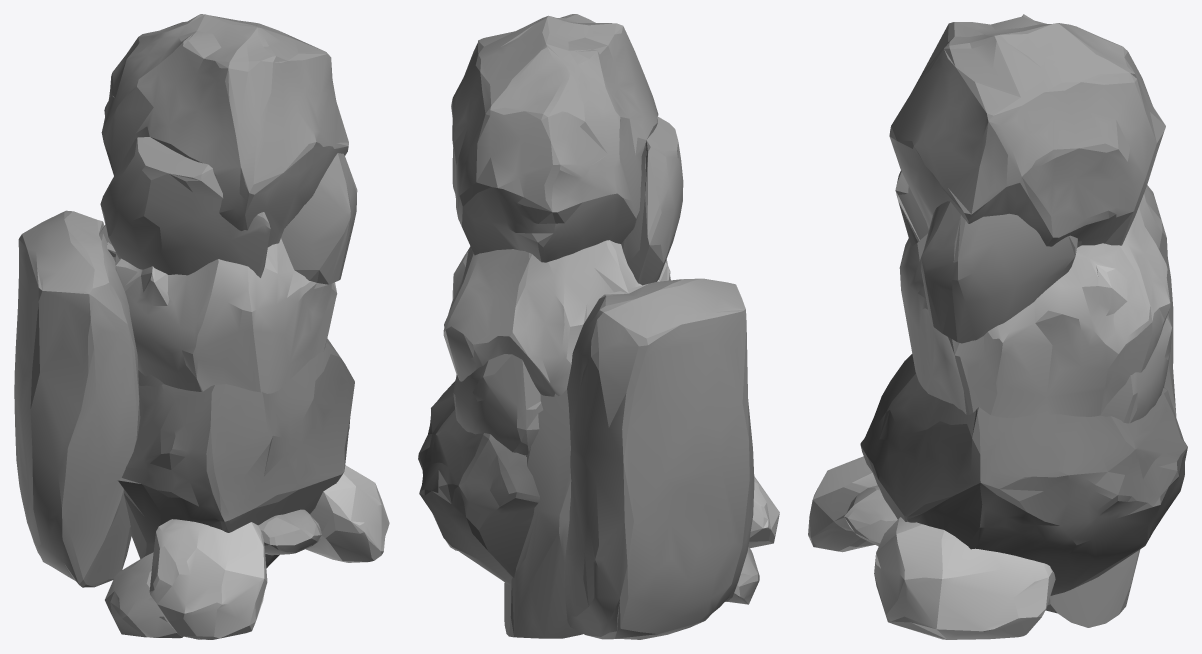
The model's file is Rock-4.glb.
The picture shows the model from 3 angles, left to right: view 1: azimuth 30°, elevation 25°; view 2: azimuth 150°, elevation 25°; view 3: azimuth 270°, elevation 25°; orthographic projection. The views are drawn at different scales.
Visible parts, largest first — view 1: Rock_021; view 2: Rock_021; view 3: Rock_021.
Part boxes in pixels (bbox=[...]): Rock_021: bbox=[14, 14, 389, 639]; Rock_021: bbox=[418, 14, 779, 639]; Rock_021: bbox=[808, 14, 1187, 639].
Size of what is drawn, in the model's own units: 5.8 by 9.74 by 5.65.
Materials: 1 (1 with a texture image).
